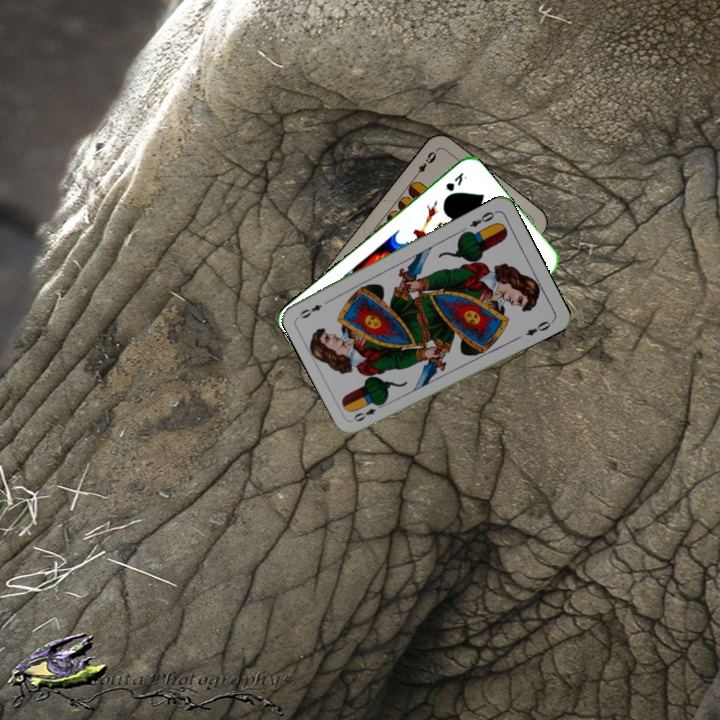E9: (410, 146, 439, 181)
EO: (350, 399, 387, 424), (466, 207, 500, 230)
GK: (441, 168, 470, 194)
